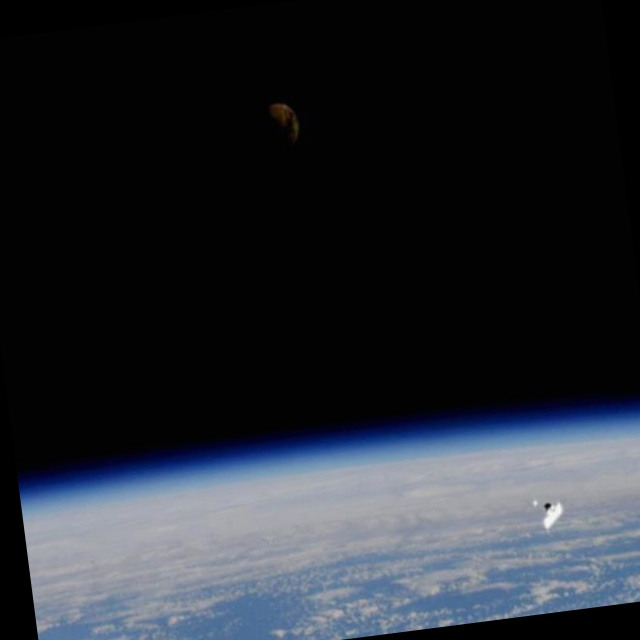satellite: (514, 493, 574, 543)
